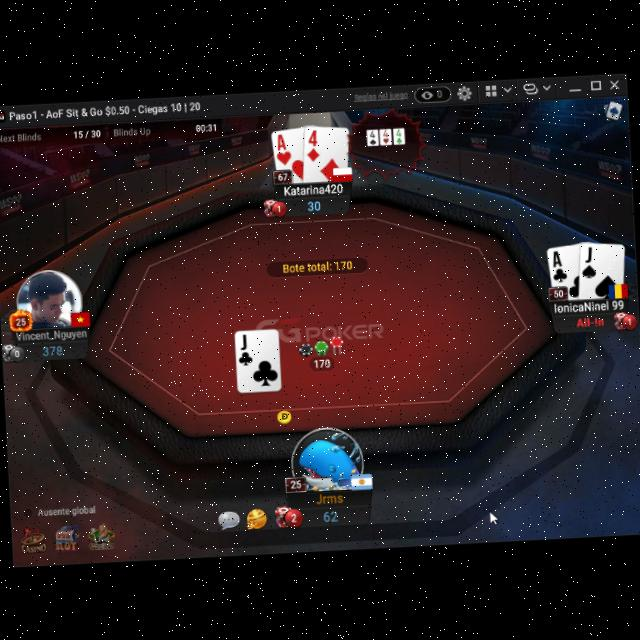4d: (304, 127, 322, 163)
Ac: (550, 248, 570, 283)
Ah: (274, 131, 294, 166)
Jc: (235, 330, 258, 368)
Js: (580, 244, 600, 280)
all_in_symbol: (573, 312, 608, 330)
bet_text: (313, 355, 333, 371)
dealer: (276, 406, 296, 426)
pot_text: (282, 256, 356, 276)
stack_text: (41, 342, 68, 358), (321, 506, 342, 522), (306, 196, 324, 212)
